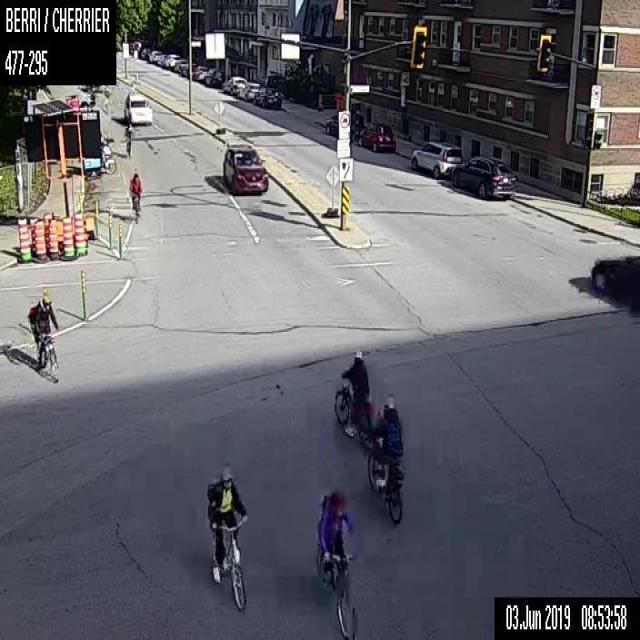construction: (321, 163, 338, 218), (15, 216, 30, 264), (61, 215, 74, 260), (73, 211, 85, 257), (34, 220, 46, 262), (48, 218, 58, 261), (213, 101, 224, 133), (79, 269, 86, 319), (30, 216, 37, 258), (43, 212, 50, 252), (117, 222, 123, 258), (94, 199, 99, 236), (107, 210, 112, 247)
cyclist: (314, 486, 356, 638), (205, 464, 247, 611), (363, 396, 405, 526), (333, 350, 373, 442), (28, 292, 58, 383), (129, 172, 142, 223), (123, 123, 133, 157)
vehicle: (450, 155, 516, 199), (590, 253, 639, 310), (221, 144, 268, 192), (410, 140, 460, 178), (358, 121, 396, 152), (324, 110, 362, 137), (123, 91, 153, 124), (252, 86, 281, 108), (222, 75, 246, 94), (237, 81, 260, 100), (202, 68, 222, 86), (180, 63, 196, 78), (163, 54, 179, 68), (192, 65, 206, 80), (173, 59, 187, 72), (148, 50, 160, 61), (140, 47, 149, 59), (157, 54, 166, 65)
